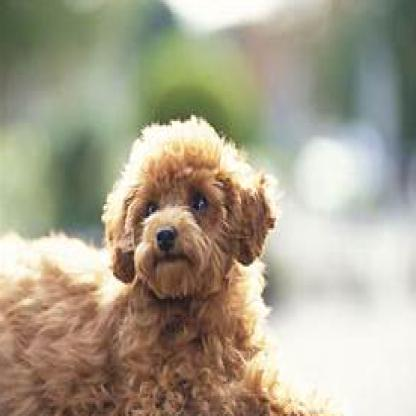dog: (2, 115, 345, 414)
